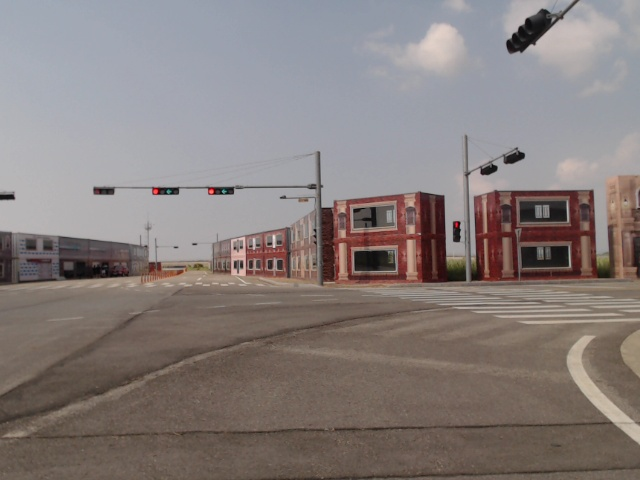left_green_4: (152, 188, 179, 195), (208, 187, 234, 194)
